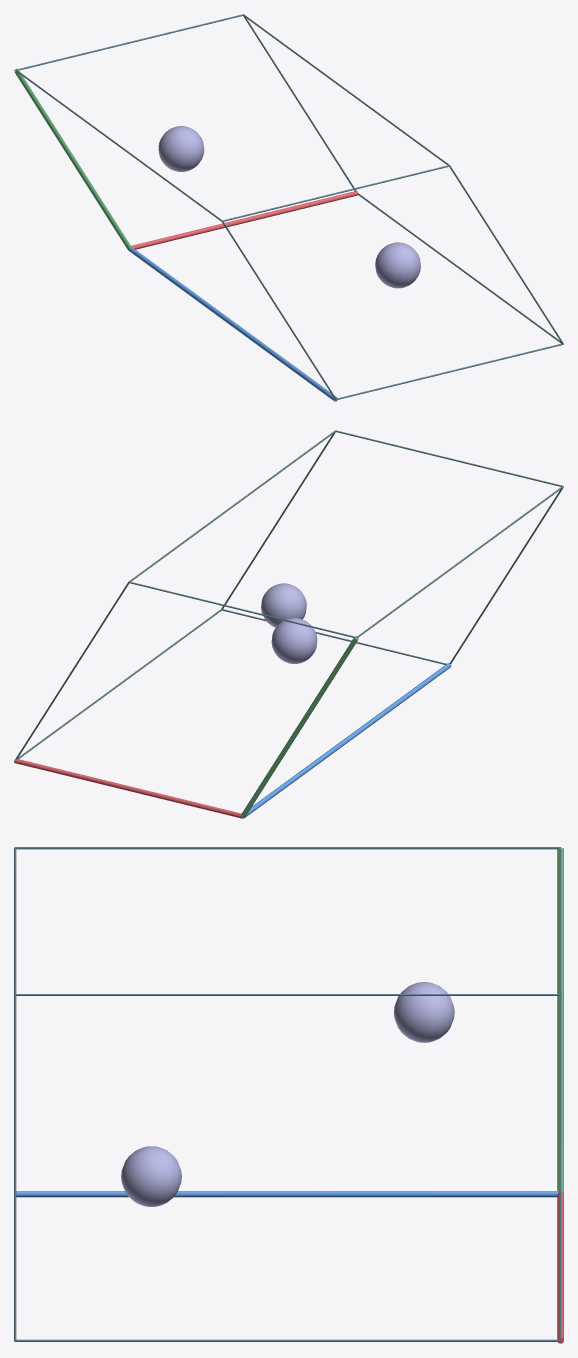
The model's file is nguyen-to-y.glb.
3 renders of one model, top to bottom at view 1: azimuth 30°, elevation 25°; view 2: azimuth 150°, elevation 25°; view 3: azimuth 270°, elevation 25°, orthographic. The views are drawn at different scales.
Visible parts, largest first — view 1: Ô mạng và các trục a, b, c, Y · Y · 1 (×2); view 2: Ô mạng và các trục a, b, c, Y · Y · 1 (×2); view 3: Ô mạng và các trục a, b, c, Y · Y · 1 (×2).
Boxes of the visible parts, x1,y1,x2,y2 form: Ô mạng và các trục a, b, c: (14,14,563,401); Y · Y · 1 (×2): (158,126,420,288); Ô mạng và các trục a, b, c: (14,430,563,818); Y · Y · 1 (×2): (261,583,317,663); Ô mạng và các trục a, b, c: (14,847,563,1343); Y · Y · 1 (×2): (121,982,454,1206).
Size of the model in its own units: 5.51 by 3.21 by 5.78.
